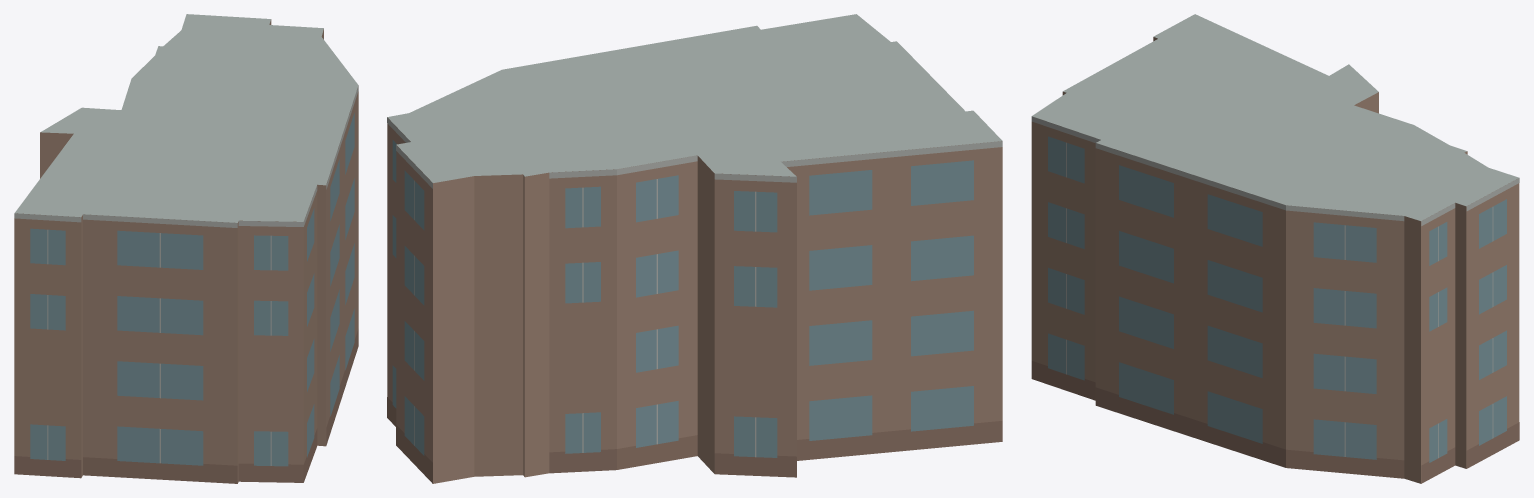
Rendered from survey-upis-32545371.glb.
3 views of the same model, side by side, from view 1: azimuth 30°, elevation 25°; view 2: azimuth 150°, elevation 25°; view 3: azimuth 270°, elevation 25° (orthographic). The views are drawn at different scales.
Visible parts, largest first — view 1: survey-upis-32545371.tmp; view 2: survey-upis-32545371.tmp; view 3: survey-upis-32545371.tmp.
Part boxes in pixels (box(x1,y1,x2,y2)): survey-upis-32545371.tmp: box(14, 14, 358, 483); survey-upis-32545371.tmp: box(387, 14, 1002, 483); survey-upis-32545371.tmp: box(1031, 14, 1519, 483).
Bounding box in the file's own units: 20.64 × 12.2 × 20.54.
